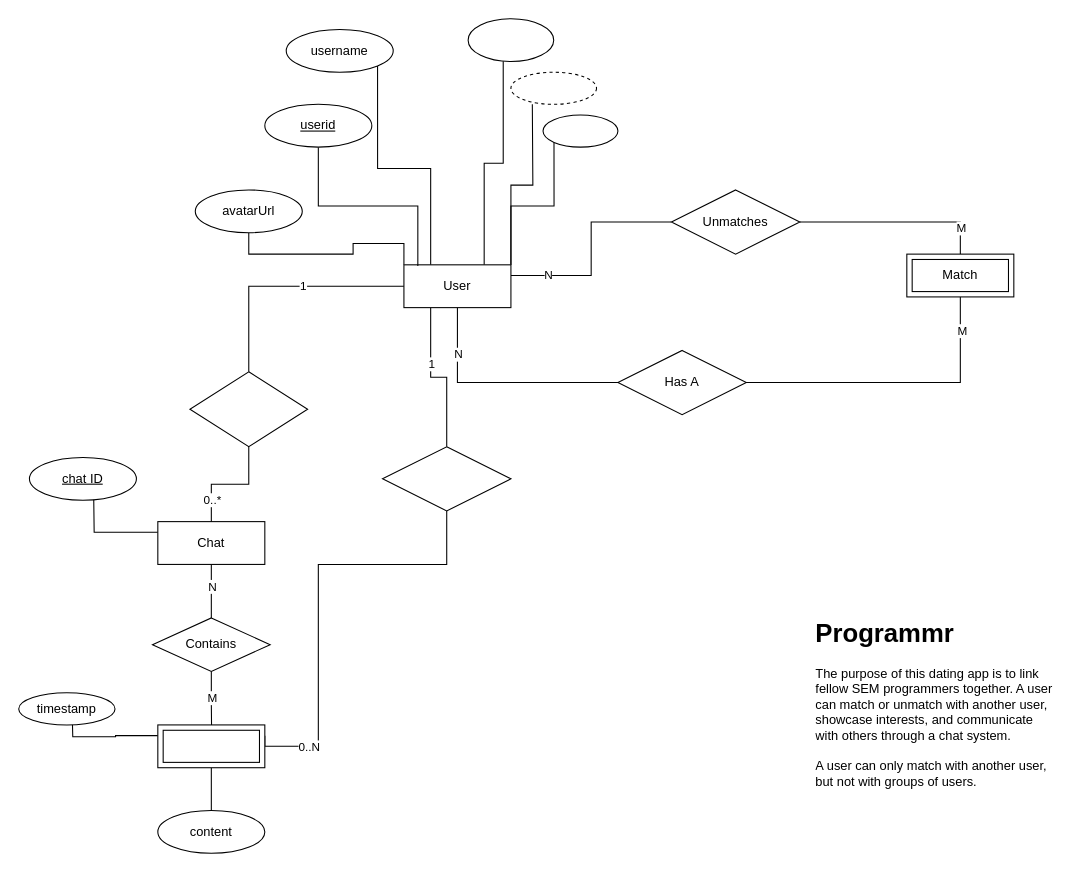
This 1075x872 diagram has some shape labels left out. The shapes that lost their labels are listed below. From the top down, each one's centre as x and y in pixels, then its label:
the point at 510,40: date of birth
the point at 553,87: age
the point at 580,130: description
the point at 248,409: Communicates
the point at 446,478: Sends
the point at 211,746: Message
